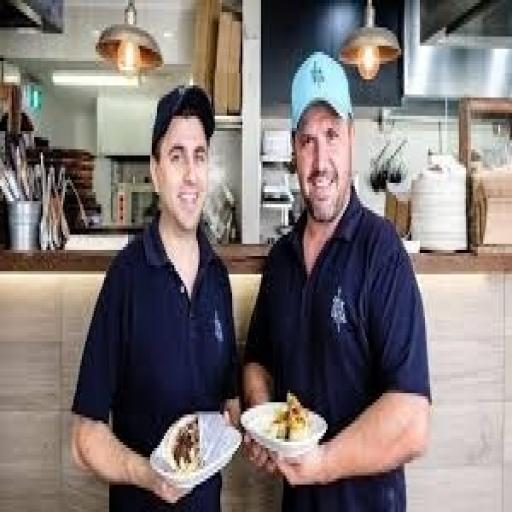eating: (66, 49, 434, 506)
